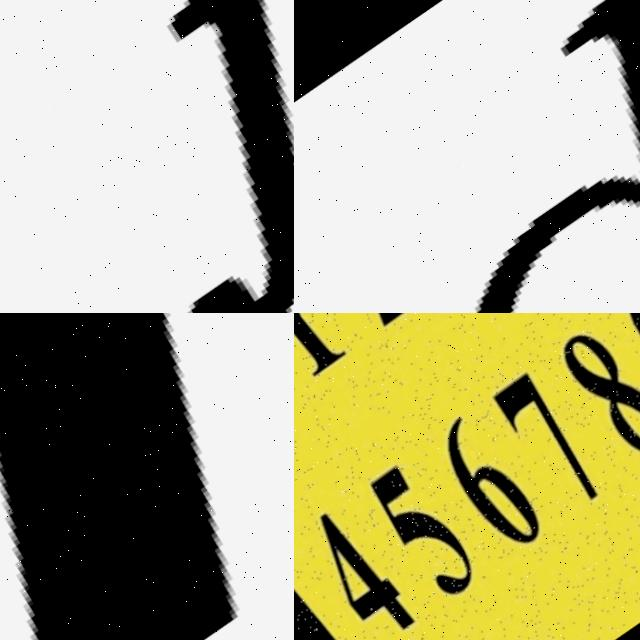1: (0, 313, 294, 640)
4: (294, 482, 451, 640)
5: (336, 435, 517, 625)
6: (399, 383, 592, 590)
7: (458, 336, 640, 545)
8: (523, 313, 640, 483)
9: (581, 313, 640, 443)
D: (294, 0, 640, 313)
J: (0, 0, 294, 313)
